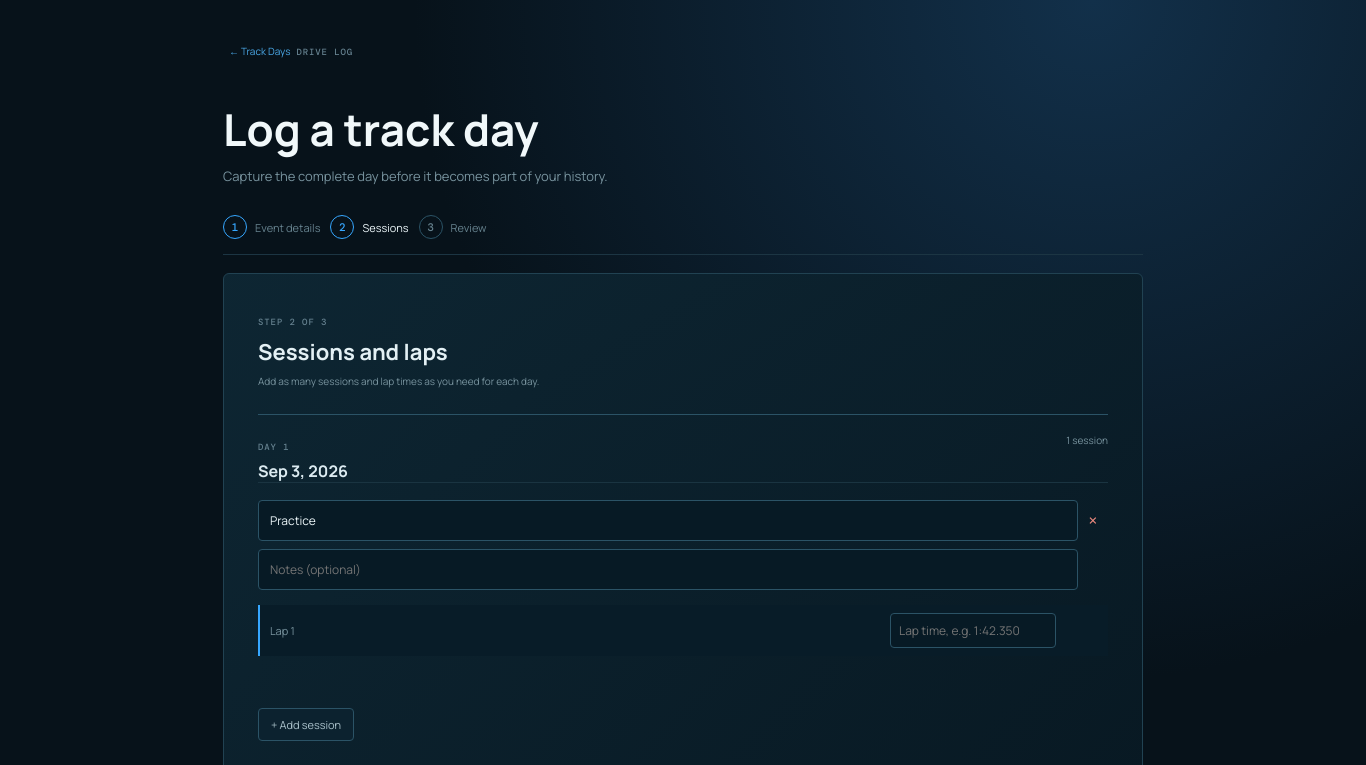
Test: TrackDayCreateComponent › adds a new empty lap row when typing a lap time
The width and height of the screenshot is (1366, 765).
Type "1:" into the field with class "lap-time-input" at (973, 630), box [890,613,1056,648]
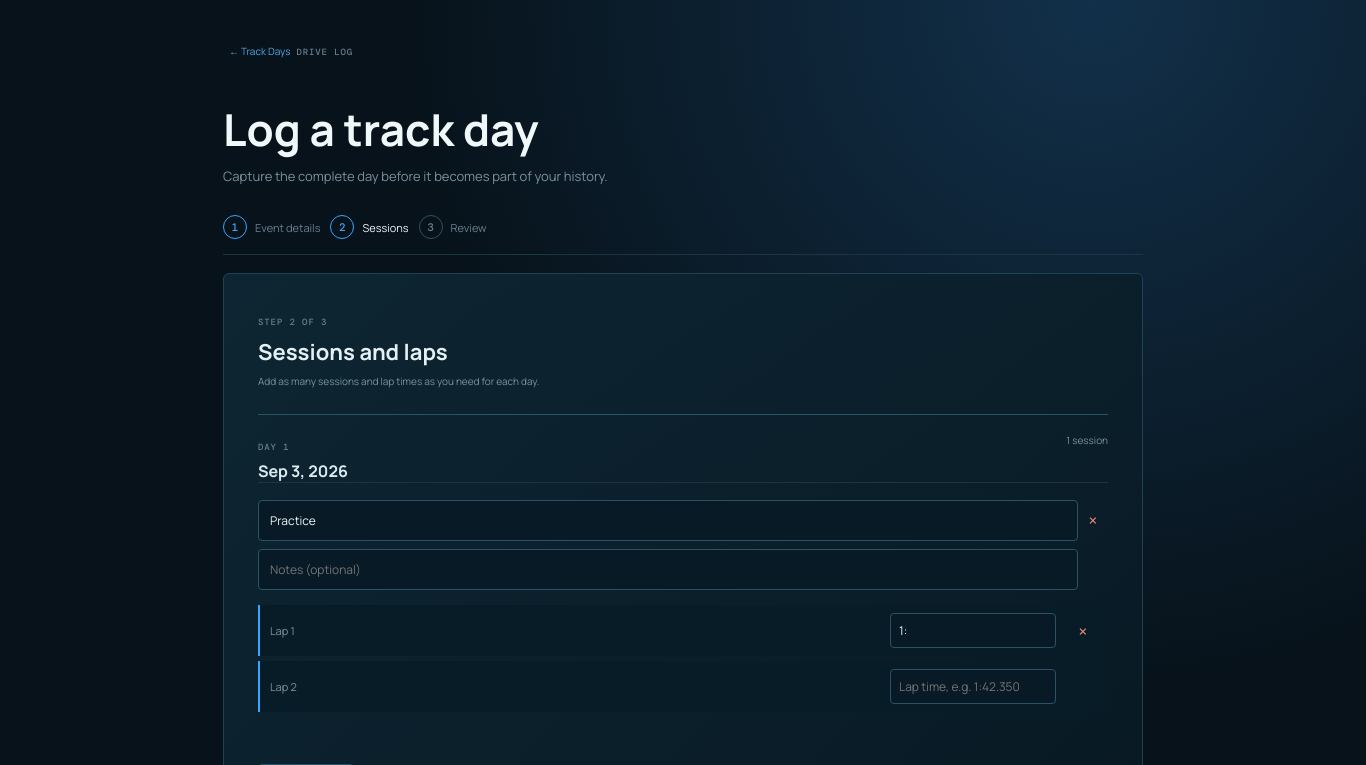
Check: the number of fields with class "lap-time-input" is 2, box [890,613,1056,648]; [890,669,1056,704]
Check: the element with class "draft-laps" shows "Lap 2", box [270,679,297,694]
Check: the field with class "lap-time-input" is empty, box [890,669,1056,704]
